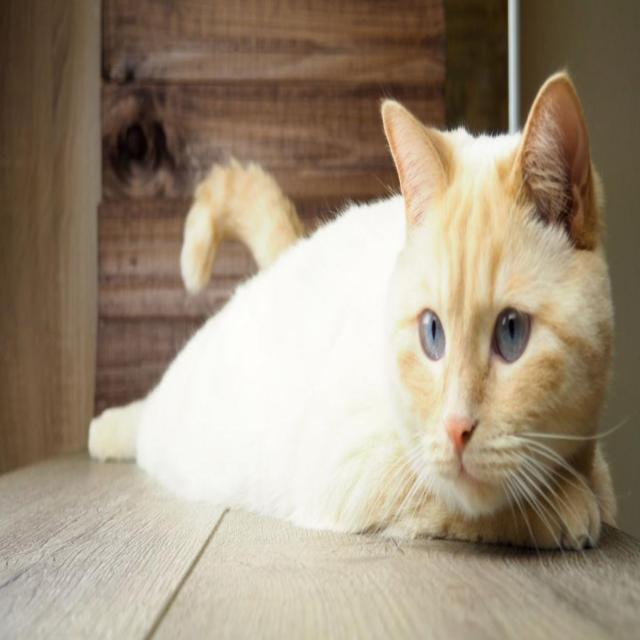Cat: (374, 58, 615, 509)
